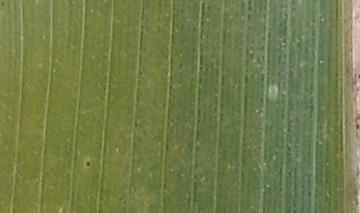tarspot: (83, 160, 92, 168)
